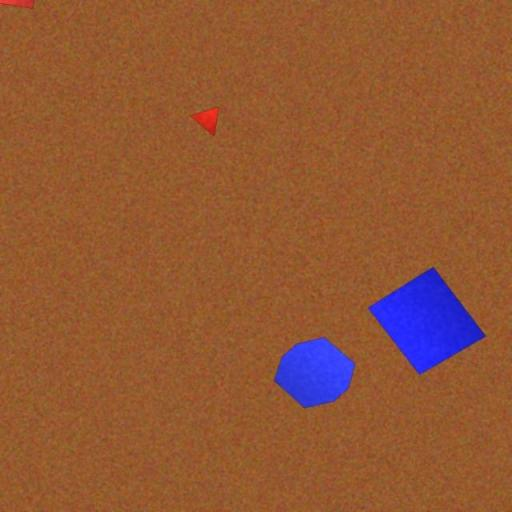BLUE_SQUARE: (368, 266, 486, 376)
